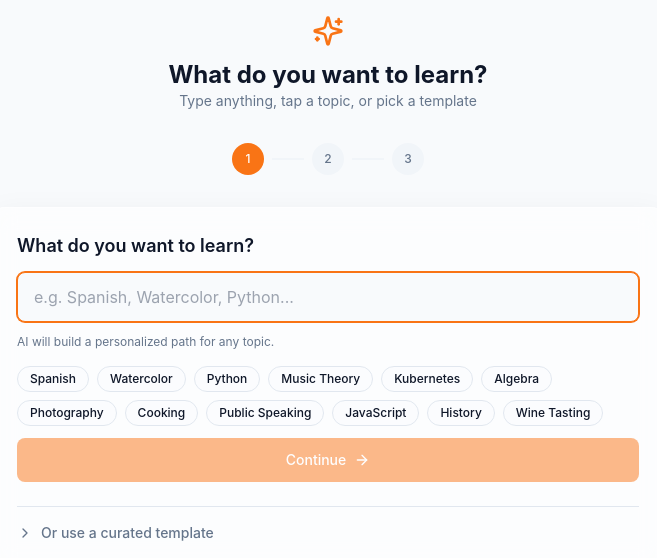
Test: Onboarding template + free-text wizard flow › chip click prefills the free-text input and Continue submits with that topic
Note: Click the "Spanish" chip — input should prefill.
Step 1. Click the button with test id "chip-spanish" → (53, 378), box [17, 366, 89, 392]
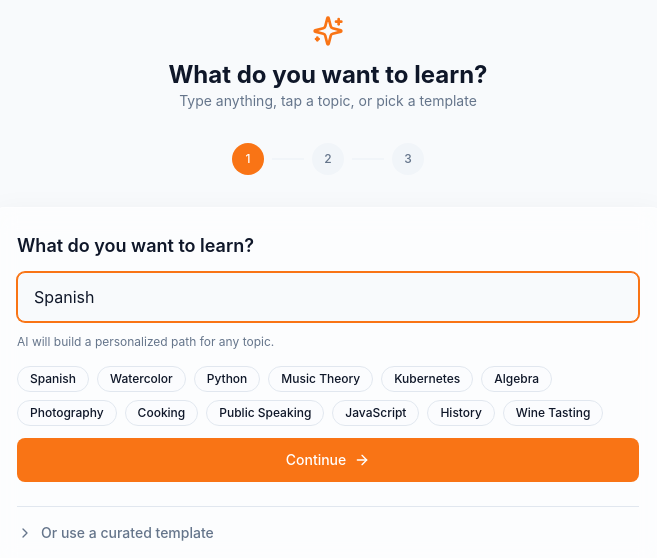
Result: the field with test id "topic-freetext-input" holds "Spanish" at [17, 272, 639, 322]
Note: Submit → goals step uses the chip-derived topic.
Step 2. Click the button with test id "topic-freetext-submit" → (328, 460), box [17, 438, 639, 482]
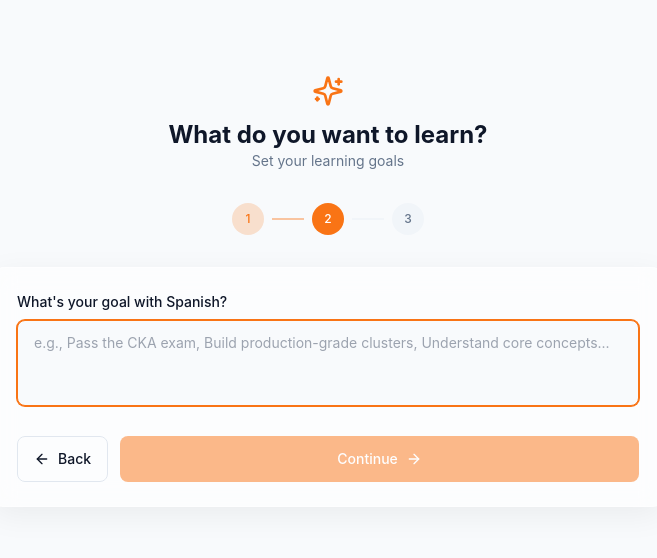
Result: the text box with placeholder "Pass the CKA" is shown at [17, 320, 639, 406]
